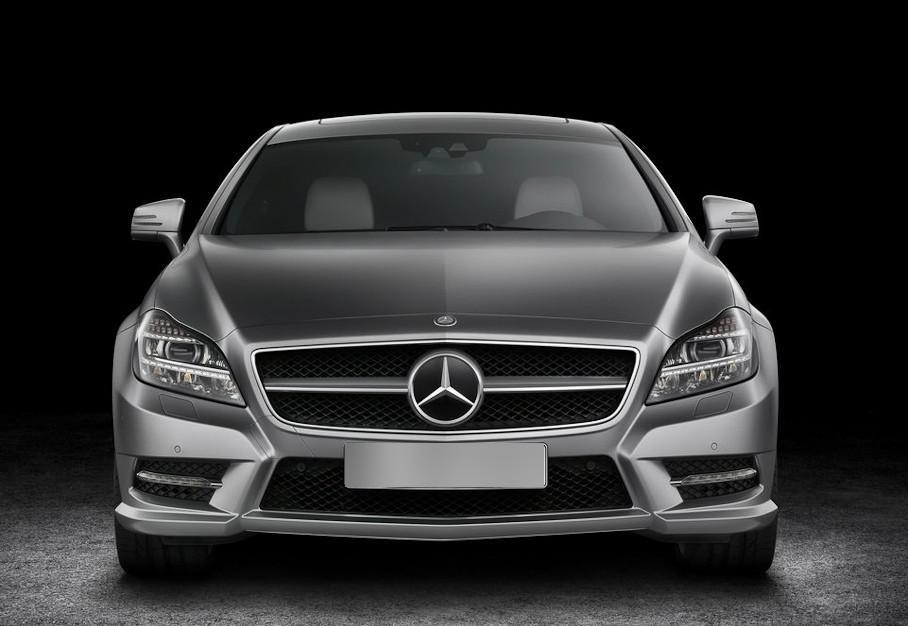Wagon: (109, 107, 780, 579)
